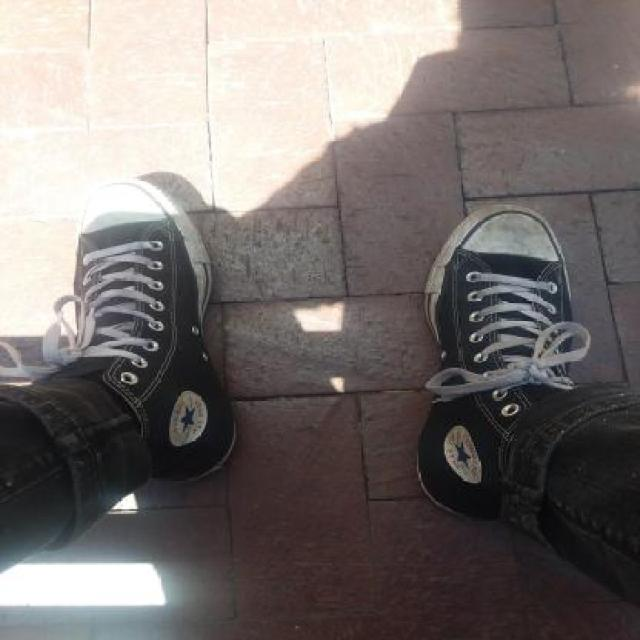shoe: (33, 181, 241, 485), (414, 202, 584, 518)
